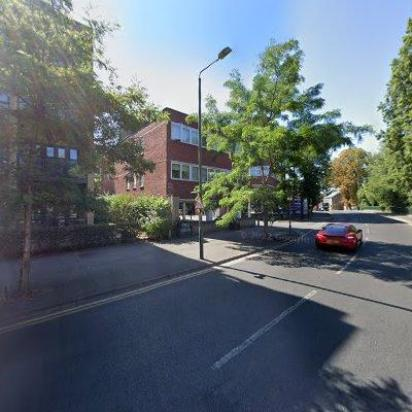moving-car: (314, 222, 362, 252)
